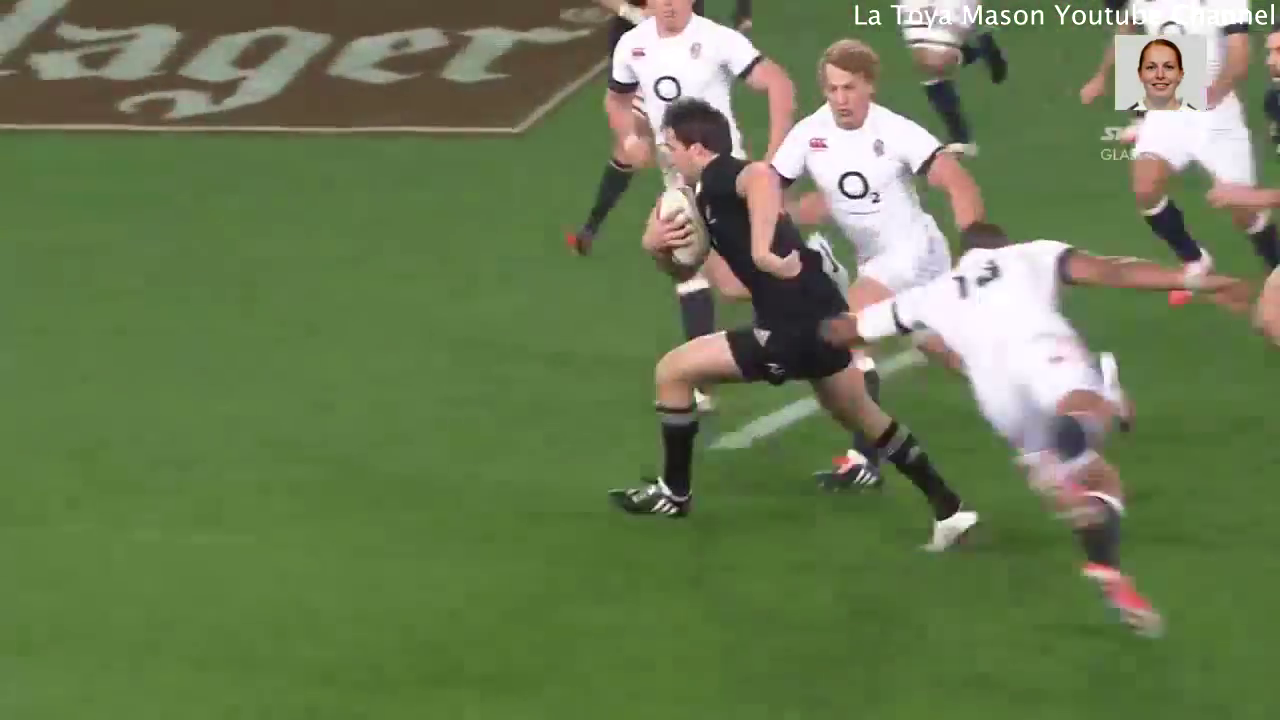player: (802, 214, 1274, 657), (597, 90, 989, 568), (752, 35, 993, 380), (586, 1, 814, 189)
